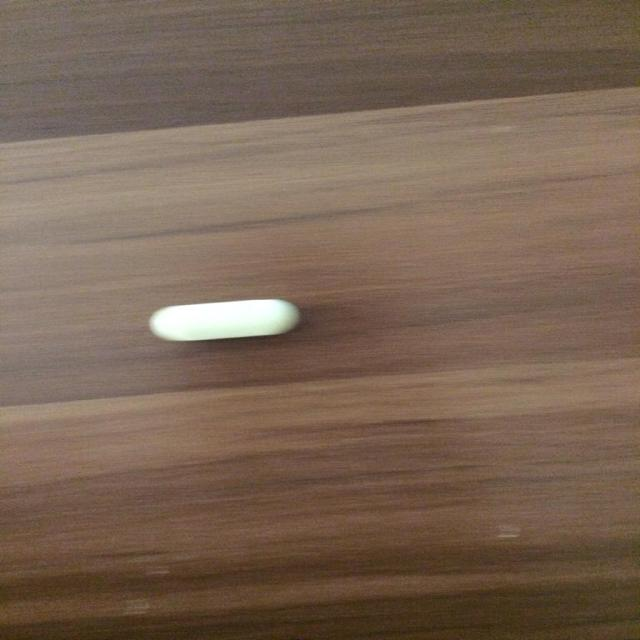pills: (137, 287, 318, 349)
